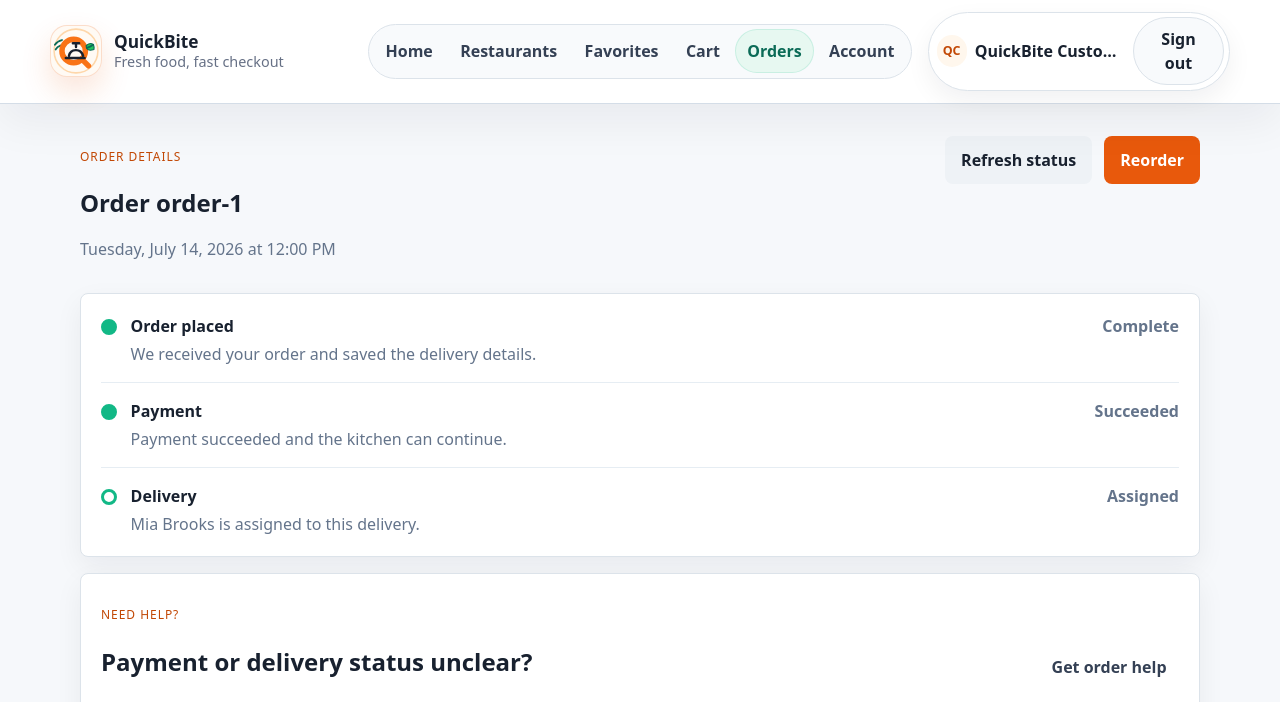
Test case: QuickBite app shell › lets signed-in customers reorder a previous order into the cart
Click the button "Reorder" at (1152, 160), box [1104,136,1200,184]
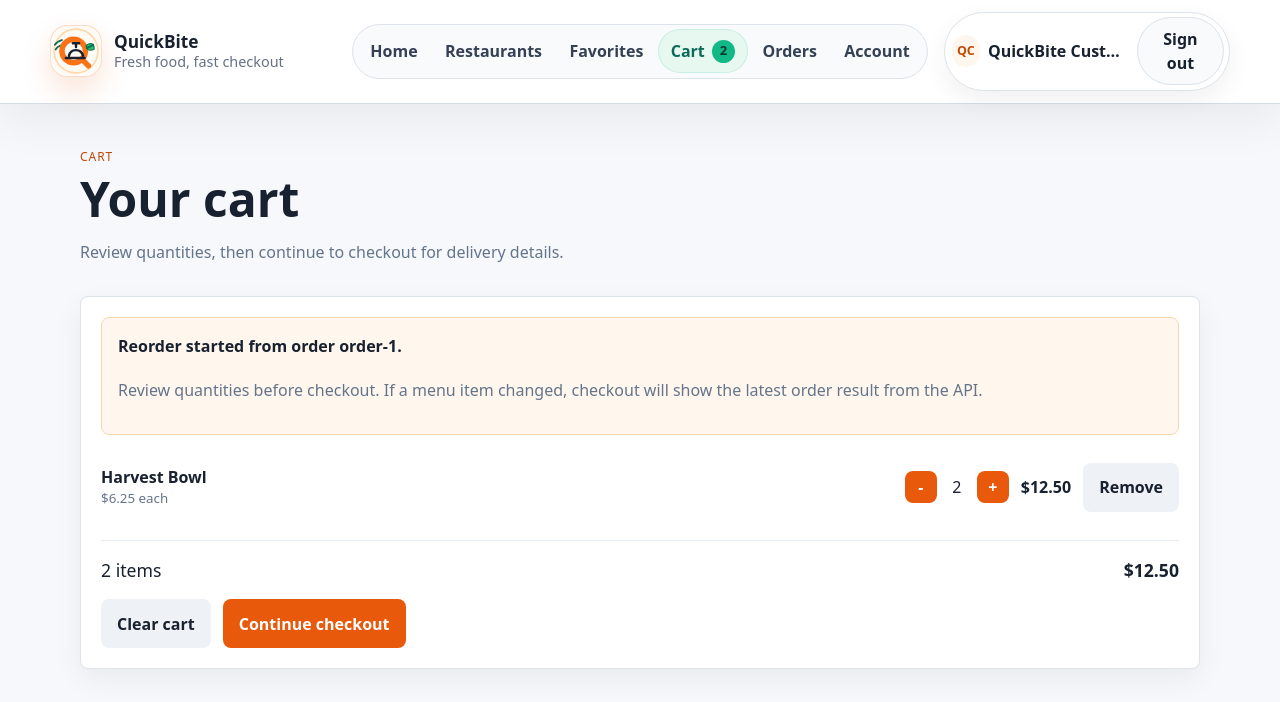
Expected: the text "Harvest Bowl" is shown, [101,466,207,488]
Expected: the heading "Your cart" is shown, [80,166,299,230]
Expected: the text "Reorder started from order order-1." is shown, [118,335,402,357]
